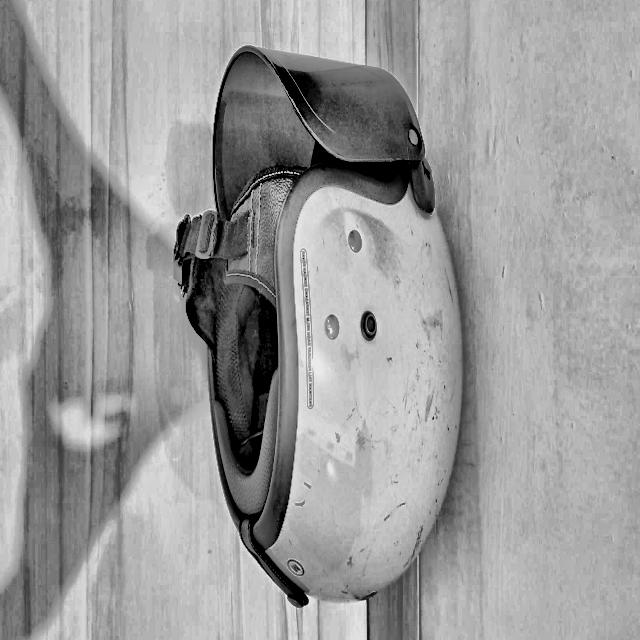Helmet: (276, 278, 622, 640)
